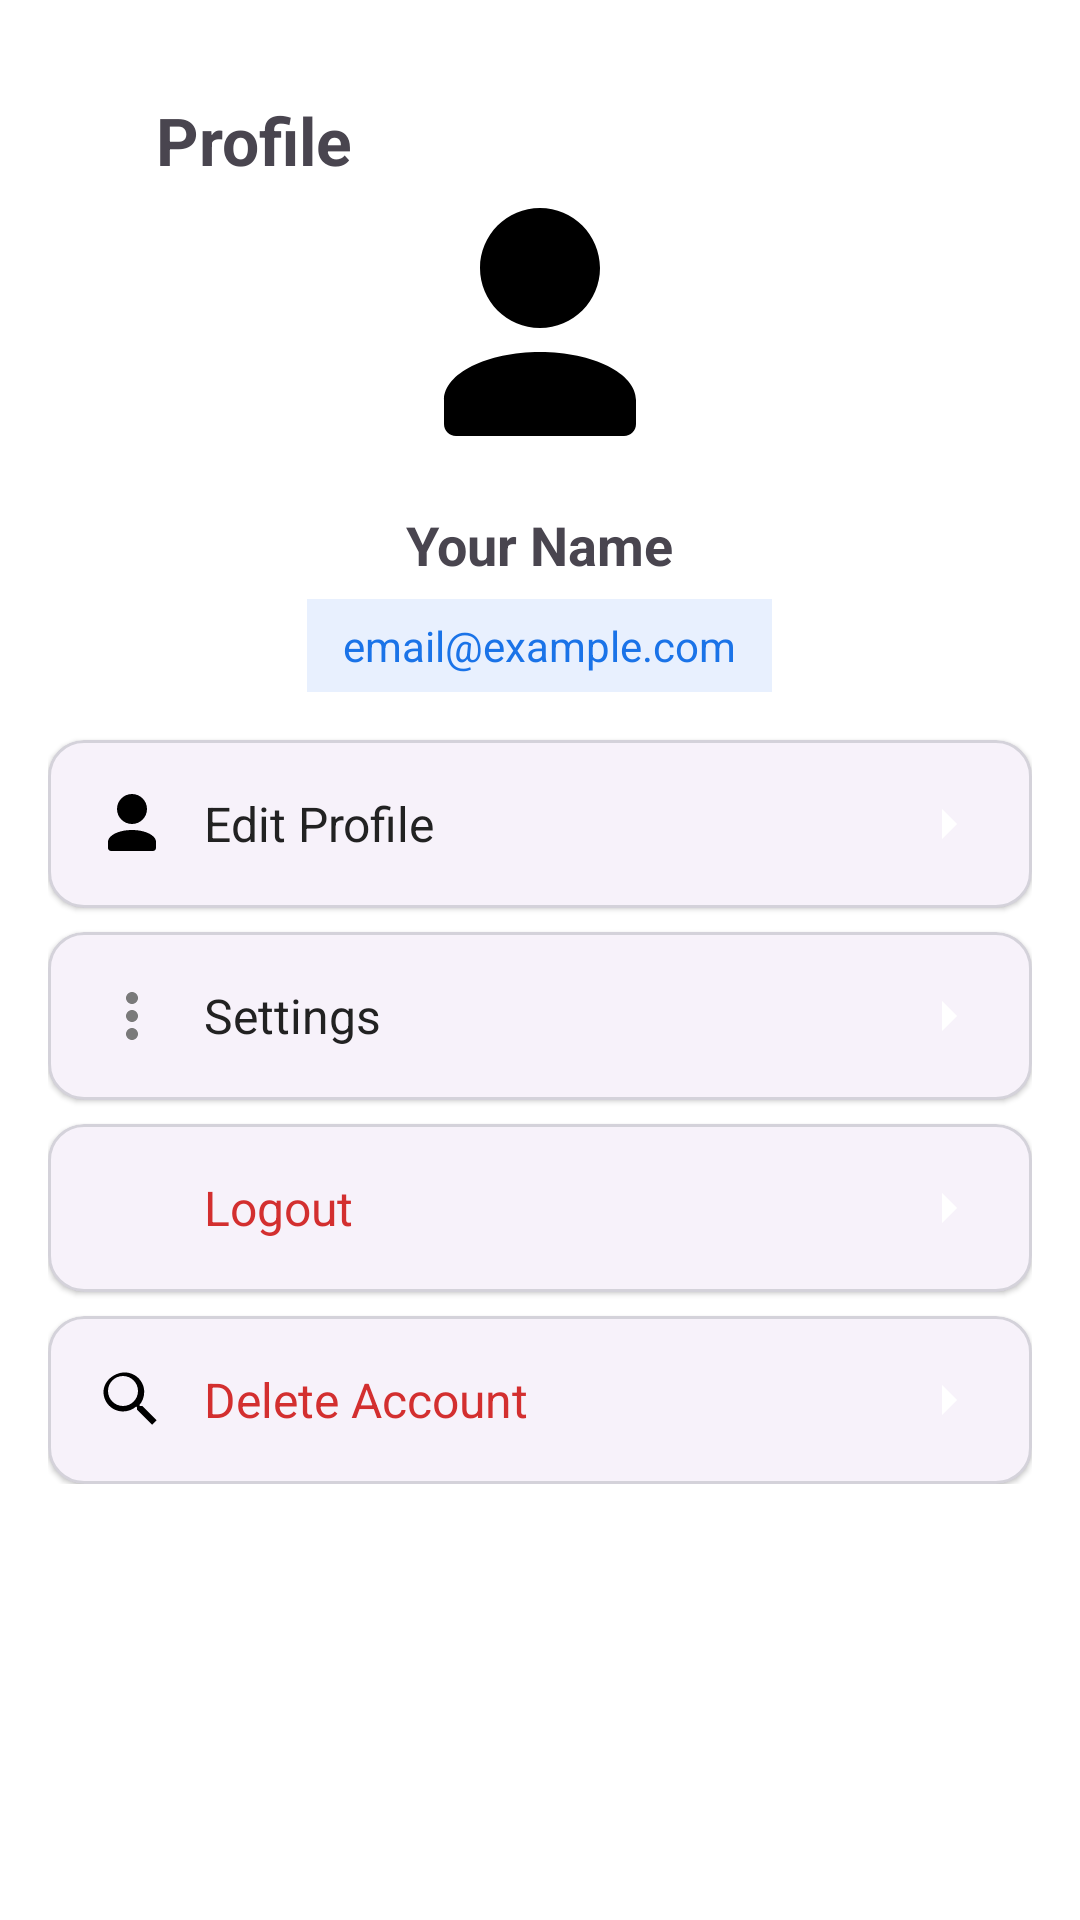

Icon bounding boxes for this 1080px x 1920px phone screenshot, format (x1, y1, x2, y2):
user: (444, 208, 636, 436)
